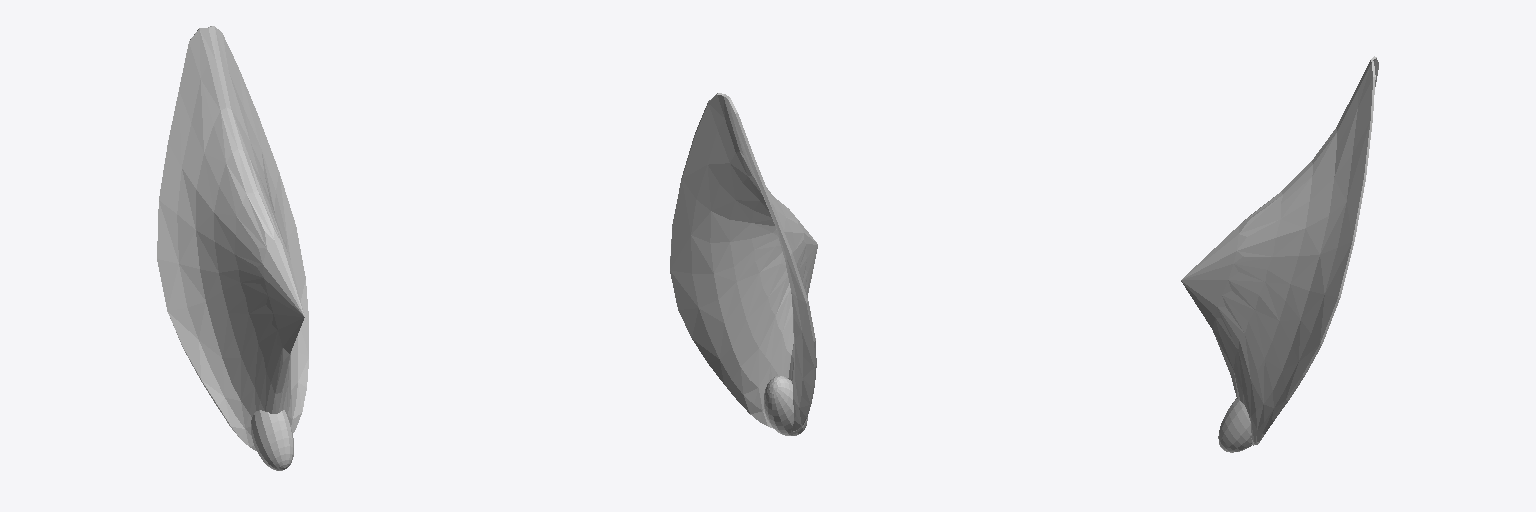
File: Vag_lips 2.7.obj
3 views of the same model, side by side, from view 1: azimuth 30°, elevation 25°; view 2: azimuth 150°, elevation 25°; view 3: azimuth 270°, elevation 25° (orthographic).
Visible parts, largest first — view 1: vag_base.001_Mesh1_Component_4_1_Component_6_1_Model.006; view 2: vag_base.001_Mesh1_Component_4_1_Component_6_1_Model.006; view 3: vag_base.001_Mesh1_Component_4_1_Component_6_1_Model.006.
Part boxes in pixels (x1,y1,x2,y2): vag_base.001_Mesh1_Component_4_1_Component_6_1_Model.006: (157, 26, 308, 470); vag_base.001_Mesh1_Component_4_1_Component_6_1_Model.006: (670, 93, 817, 435); vag_base.001_Mesh1_Component_4_1_Component_6_1_Model.006: (1181, 56, 1378, 452).
Bounding box in the file's own units: 3.08 × 8.24 × 3.79.